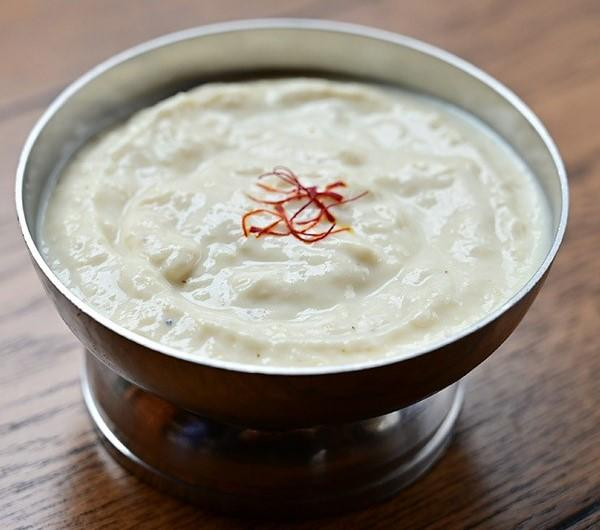Kheer: (40, 77, 552, 371)
